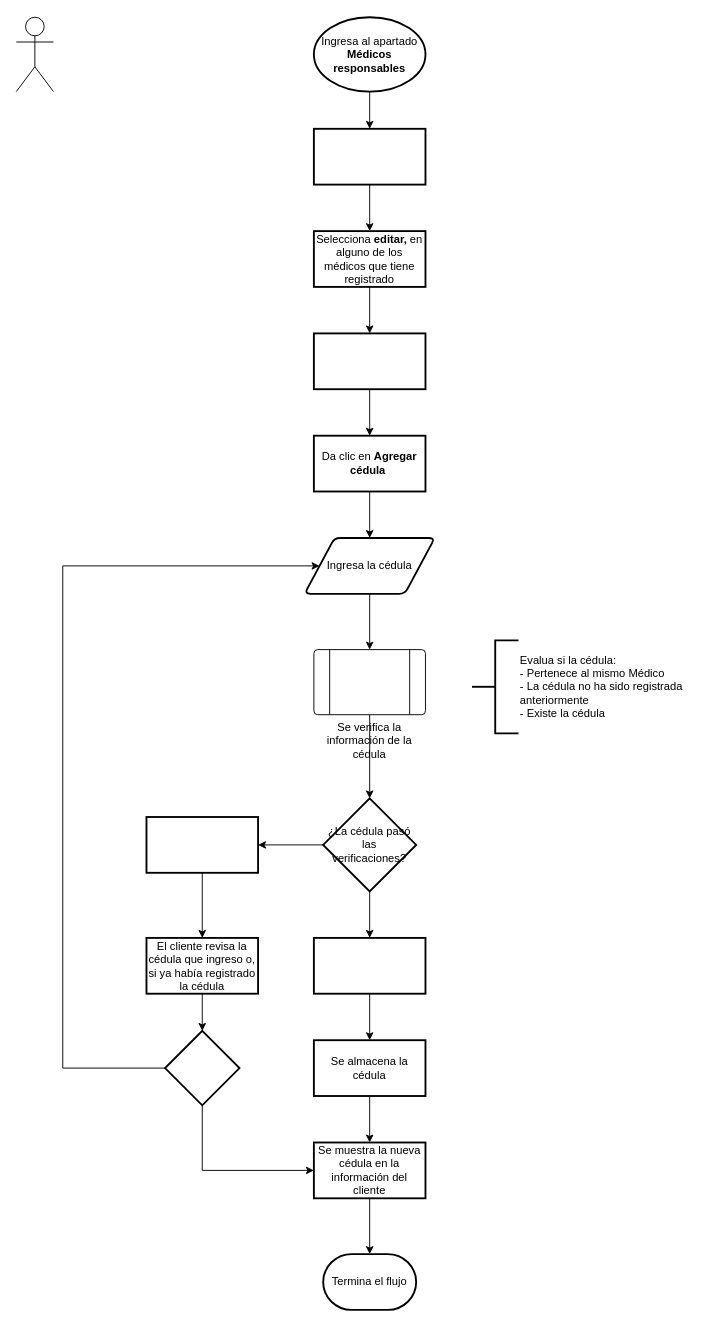
The diagram is 702 pixels wide and 1326 high, and some of its shapes have lost their labels. The centre of each missing label's shape, as x and y in pixels:
Actor: the point at 34,54
Muestra mensaje de error: the point at 202,844
Muestra mensaje de exito: the point at 369,965
Se muestra la pantalla con la información del cliente: the point at 369,361
Se muestra la sección de Médicos respondables: the point at 369,156
